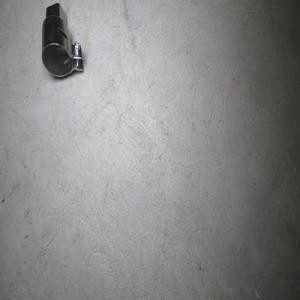MetalPart: (41, 2, 84, 78)
